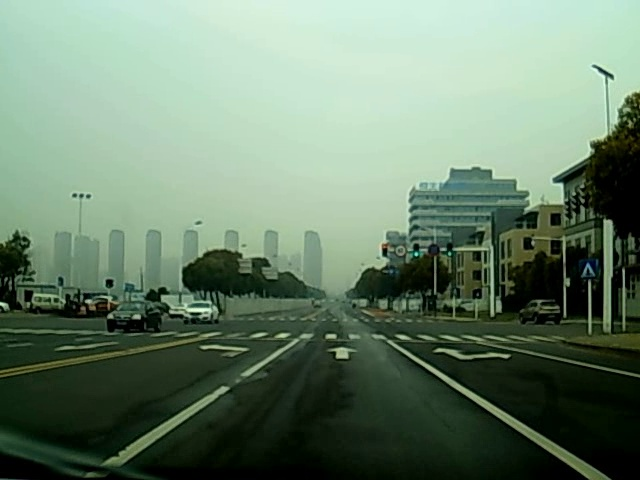Traffic_Light_go: (413, 244, 420, 260), (446, 244, 453, 259)
Traffic_Light_stop: (381, 242, 389, 260)
